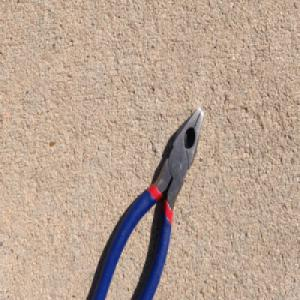Pliers: (87, 103, 204, 300)
